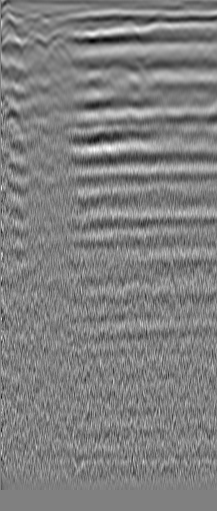오수: (21, 27, 41, 47)
우수: (185, 14, 205, 34)
